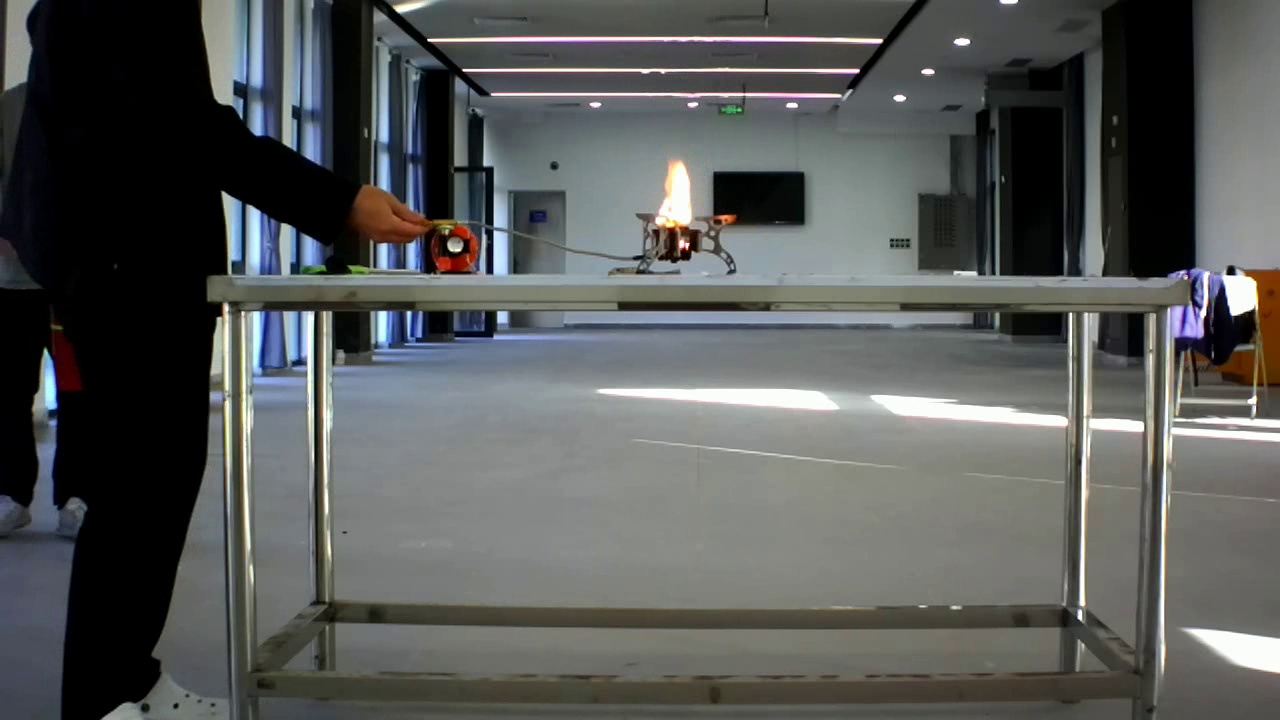Fire: (643, 151, 708, 237)
